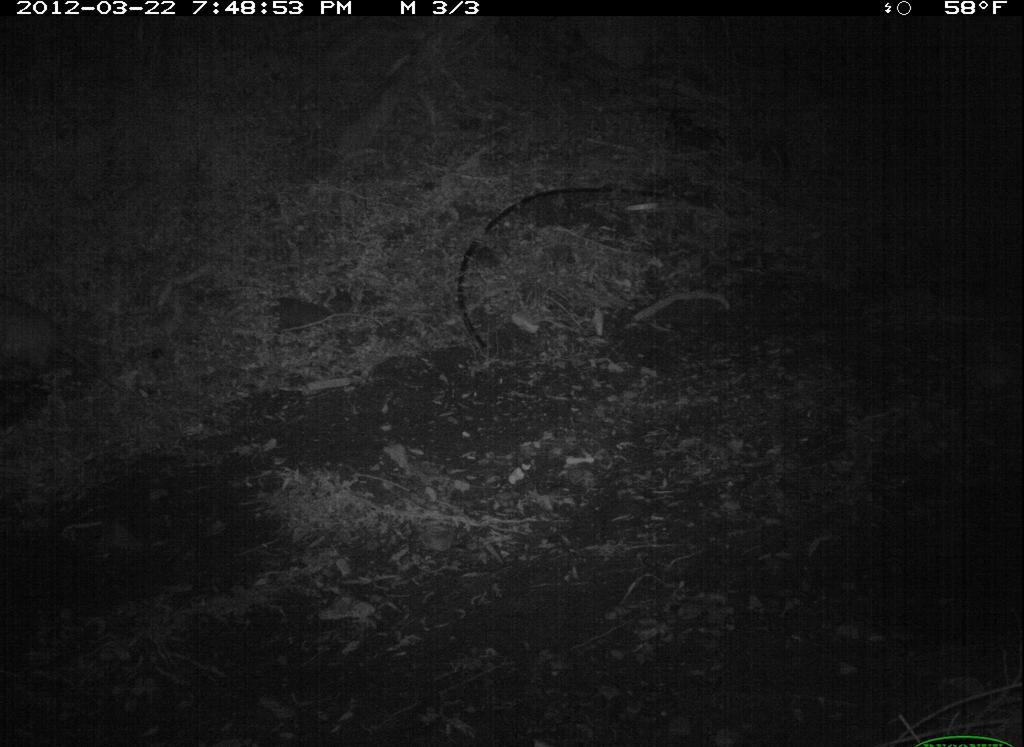opossum: (2, 287, 139, 414)
